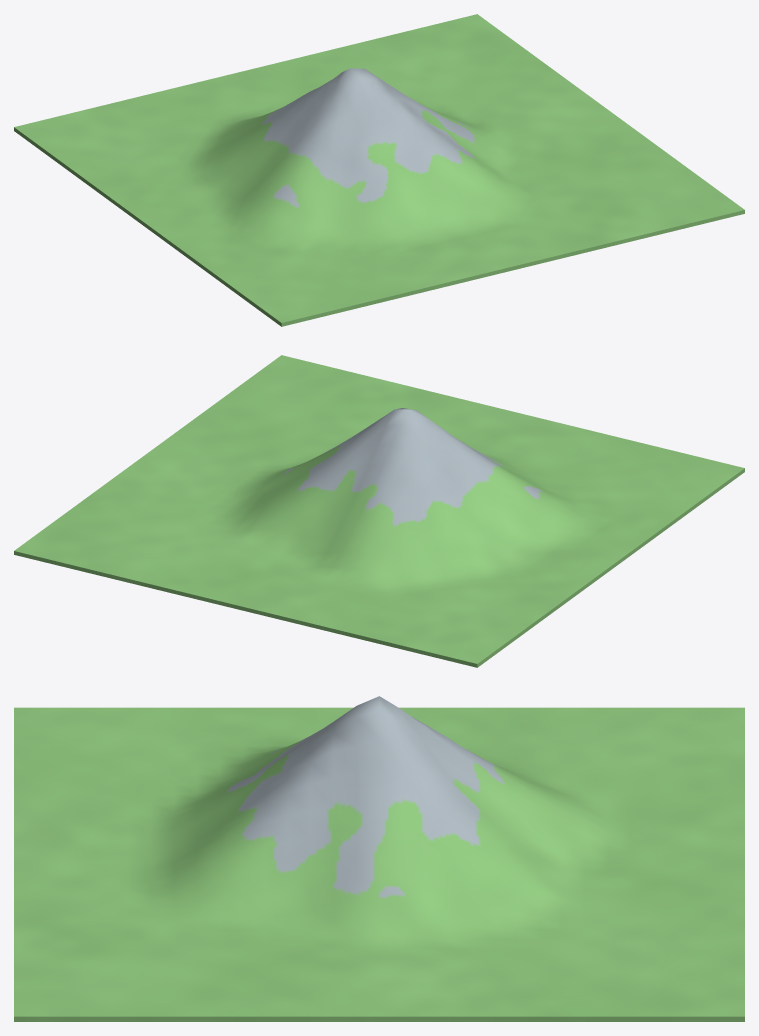
Rendered from Grass_RockyMountains_12.obj.
3 renders of one model, top to bottom at view 1: azimuth 30°, elevation 25°; view 2: azimuth 150°, elevation 25°; view 3: azimuth 270°, elevation 25°, orthographic. The views are drawn at different scales.
Size of the model in its own units: 10 by 2.29 by 10.
Materials: 1 (1 with a texture image).
